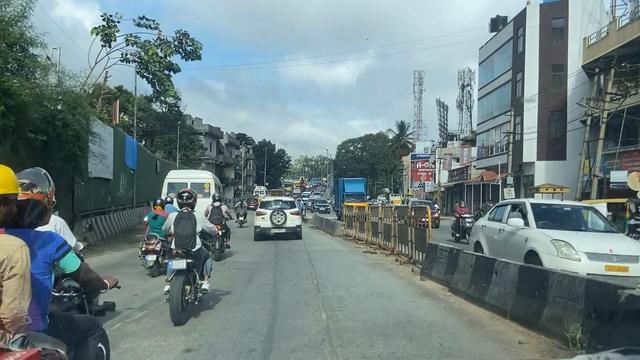LMV: (164, 189, 208, 310), (257, 197, 303, 238)
UnsurfacedRoad: (300, 240, 341, 360), (122, 293, 161, 336)
